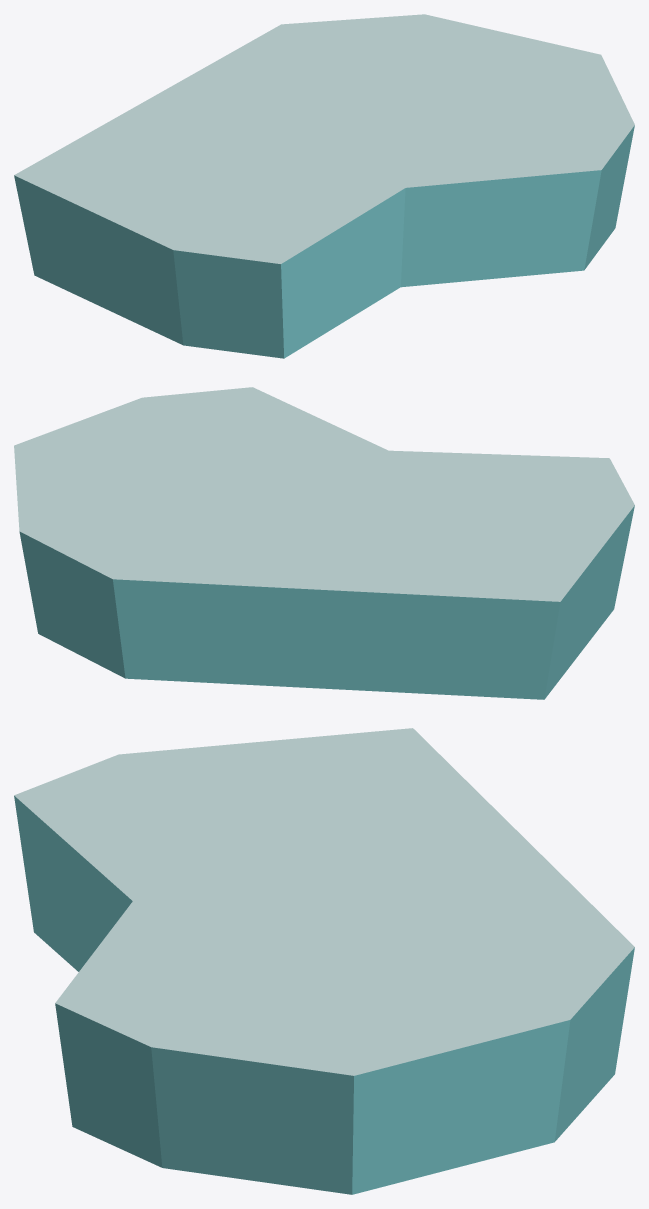
File: nature-floe-long.glb
3 renders of one model, top to bottom at view 1: azimuth 30°, elevation 25°; view 2: azimuth 150°, elevation 25°; view 3: azimuth 270°, elevation 25°, orthographic. The views are drawn at different scales.
Visible parts, largest first — view 1: floe-long; view 2: floe-long; view 3: floe-long.
Part boxes in pixels (<box>): floe-long: <box>14,14,634,358</box>; floe-long: <box>14,387,634,699</box>; floe-long: <box>14,728,634,1194</box>.
Bounding box in the file's own units: 3.05 × 0.5315 × 2.3.
